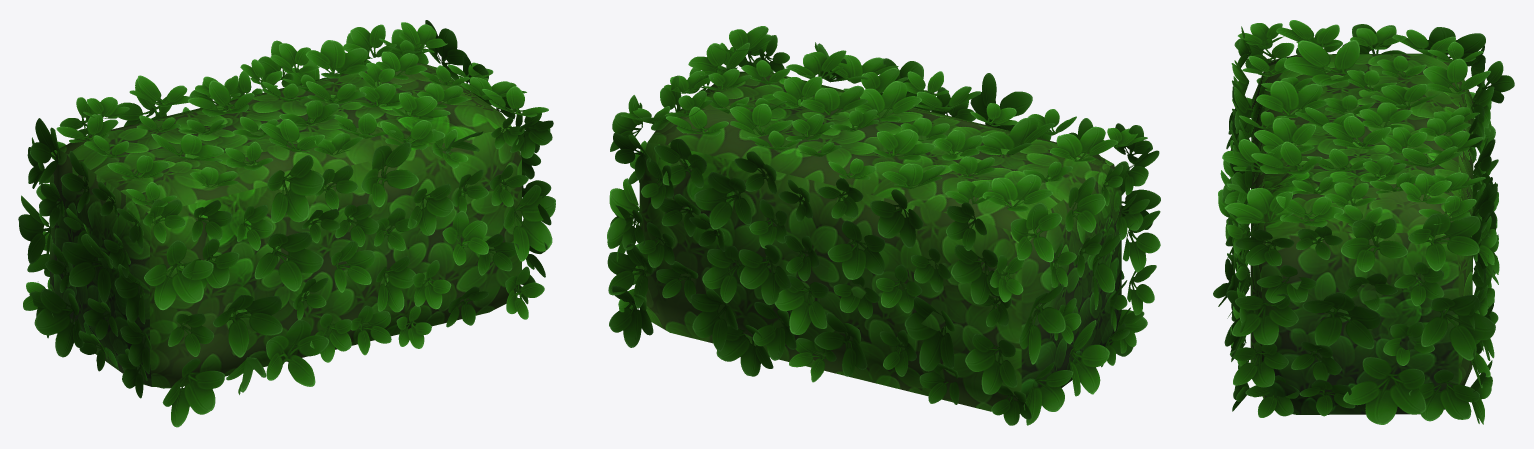
Rendered from SE_Hedge_05.fbx.
3 renders of one model, left to right at view 1: azimuth 30°, elevation 25°; view 2: azimuth 150°, elevation 25°; view 3: azimuth 270°, elevation 25°, orthographic. The views are drawn at different scales.
Parts seen in each view (by area): view 1: SE_Hedge_05; view 2: SE_Hedge_05; view 3: SE_Hedge_05.
Part boxes in pixels (bbox=[...]): SE_Hedge_05: bbox=[18, 20, 555, 427]; SE_Hedge_05: bbox=[607, 26, 1160, 425]; SE_Hedge_05: bbox=[1213, 20, 1514, 424].
Bounding box in the file's own units: 4.91 × 2.75 × 3.02.
